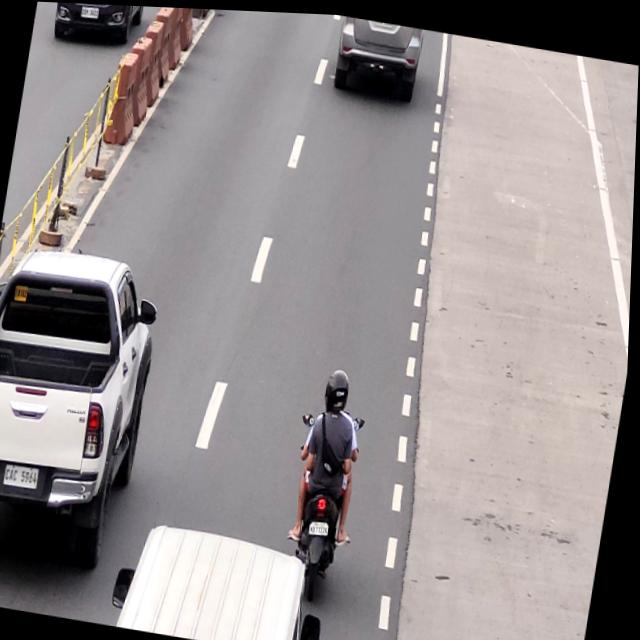Car: (0, 239, 169, 574), (127, 520, 320, 640), (334, 13, 426, 96)
License-Plate: (5, 459, 44, 490), (310, 514, 337, 540)
Motorcycle: (280, 362, 371, 591)
